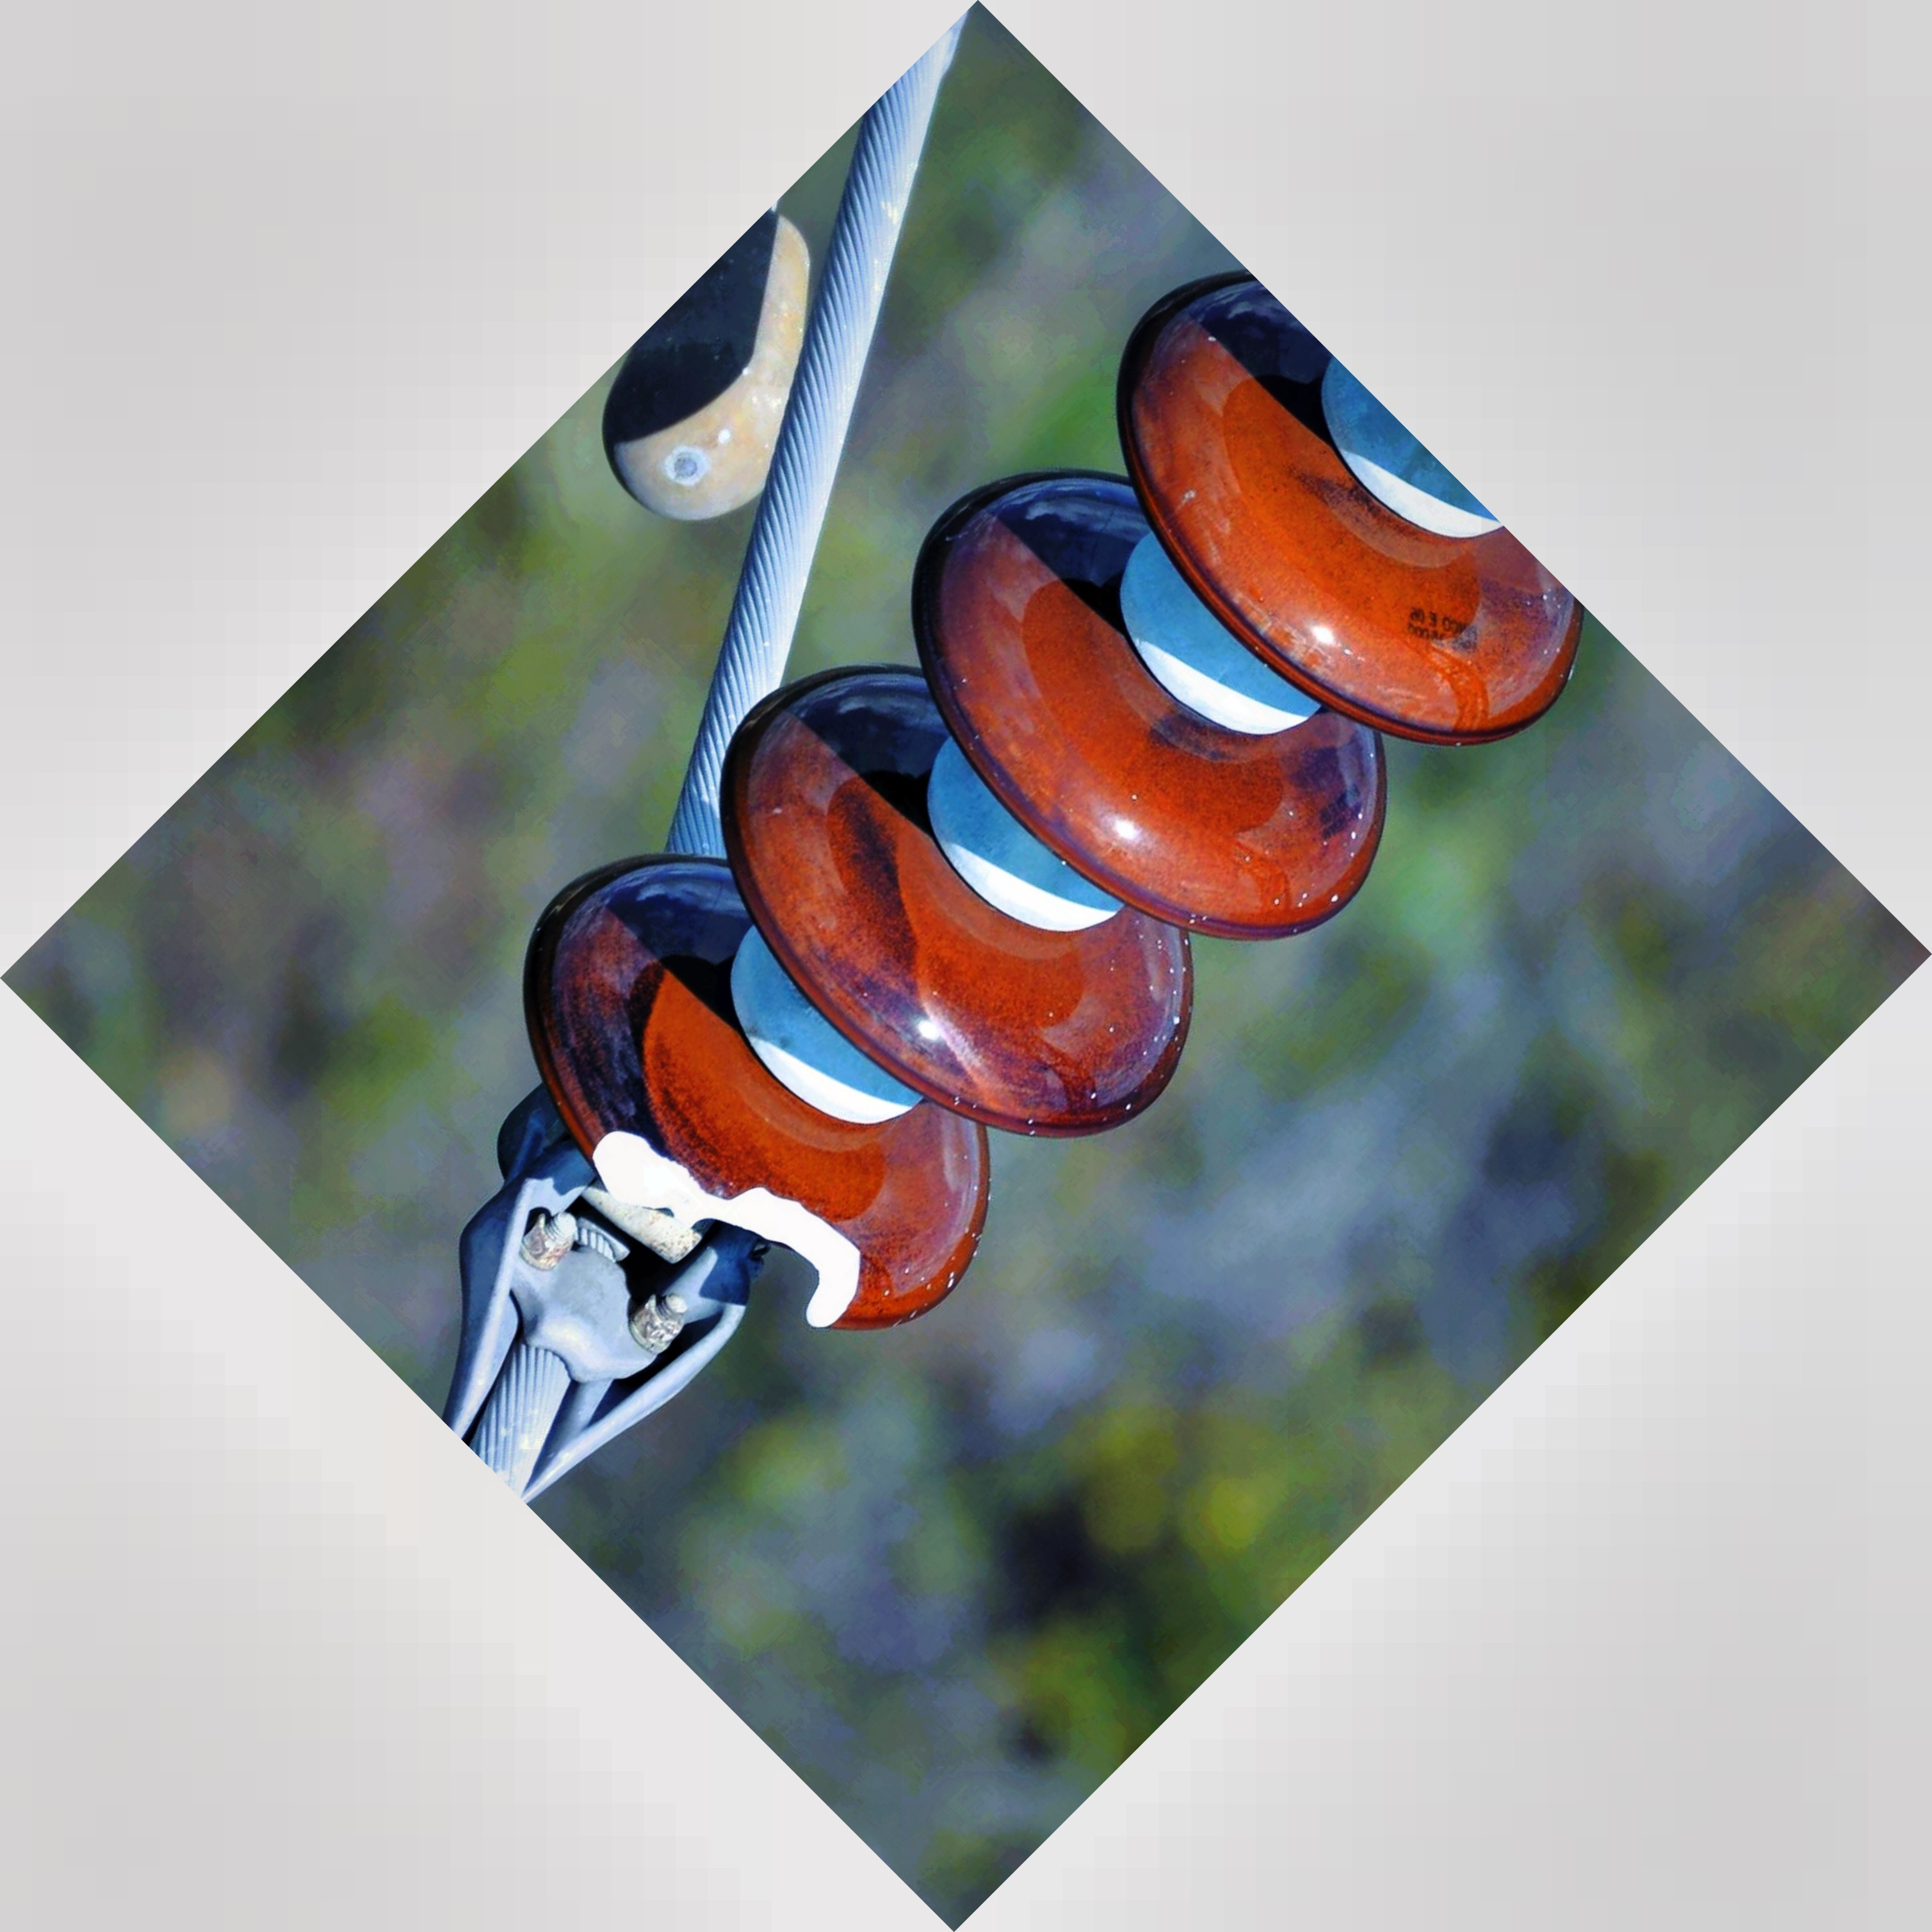insulator breakage: (497, 842, 1001, 1364)
